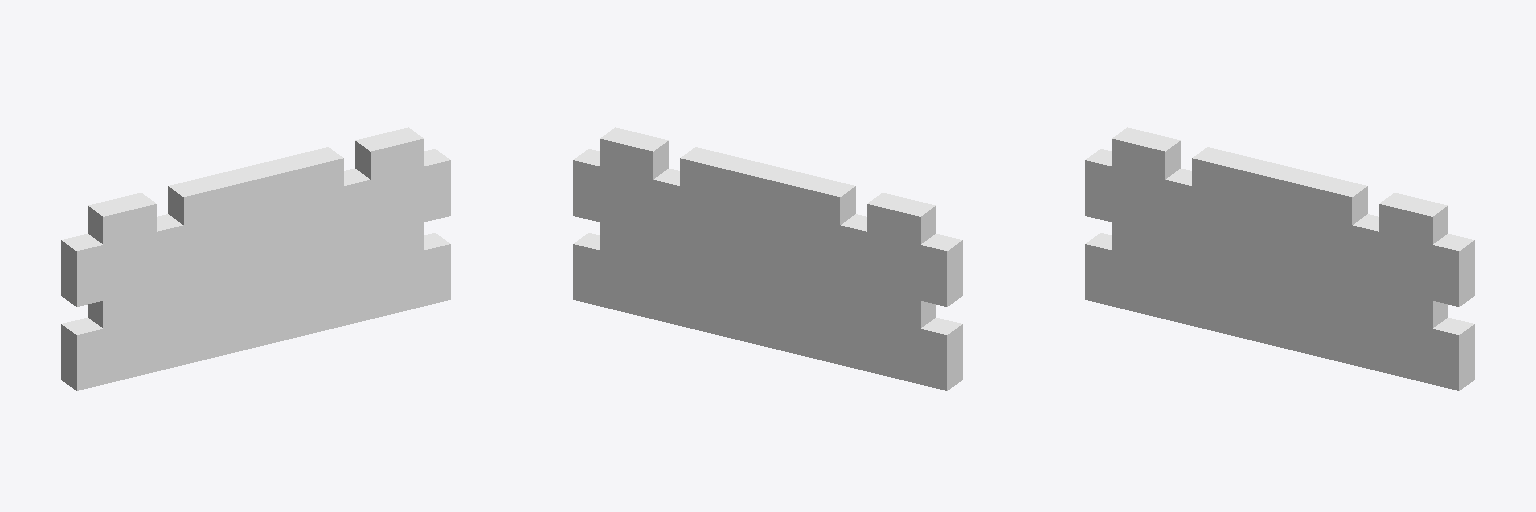
Rendered from elf death.obj.
3 renders of one model, left to right at view 1: azimuth 30°, elevation 25°; view 2: azimuth 150°, elevation 25°; view 3: azimuth 330°, elevation 25°, orthographic.
Parts seen in each view (by area): view 1: object 1; view 2: object 1; view 3: object 1.
Boxes of the visible parts, <box> form: object 1: <box>61,127,450,390</box>; object 1: <box>573,127,962,390</box>; object 1: <box>1085,127,1474,390</box>.
Size of the model in its own units: 1.4 by 0.6 by 0.1.